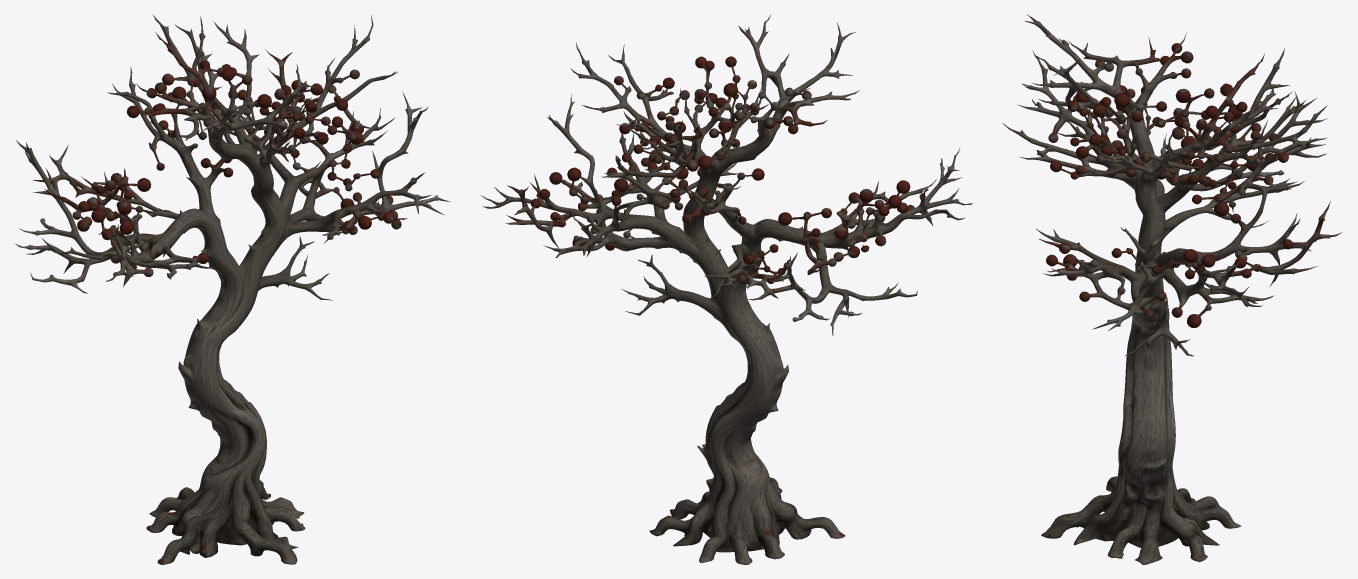
File: hawthorn.glb
The picture shows the model from 3 angles, left to right: view 1: azimuth 30°, elevation 25°; view 2: azimuth 150°, elevation 25°; view 3: azimuth 270°, elevation 25°; orthographic projection. The views are drawn at different scales.
Visible parts, largest first — view 1: node_0; view 2: node_0; view 3: node_0.
Part boxes in pixels (left/top/right/bottom): node_0: left=15, top=15, right=450, bottom=564; node_0: left=481, top=15, right=972, bottom=564; node_0: left=1002, top=14, right=1342, bottom=564.
Bounding box in the file's own units: 0.9569 × 1.05 × 0.6629.
Materials: 1 (1 with a texture image).
